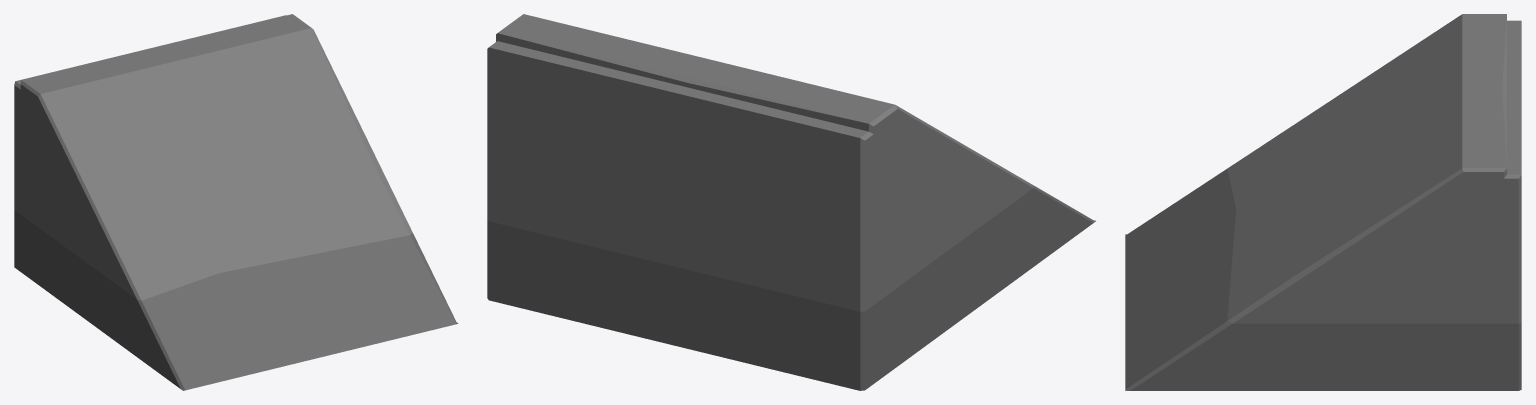
The model's file is SM_Envr_Canal_01.fbx.
3 views of the same model, side by side, from view 1: azimuth 30°, elevation 25°; view 2: azimuth 150°, elevation 25°; view 3: azimuth 270°, elevation 25° (orthographic). The views are drawn at different scales.
Visible parts, largest first — view 1: SM_Envr_Canal_01; view 2: SM_Envr_Canal_01; view 3: SM_Envr_Canal_01.
Boxes of the visible parts, <box> form: SM_Envr_Canal_01: <box>14,14,458,390</box>; SM_Envr_Canal_01: <box>487,14,1095,390</box>; SM_Envr_Canal_01: <box>1125,14,1521,390</box>.
Bounding box in the file's own units: 500 × 330 × 535.
